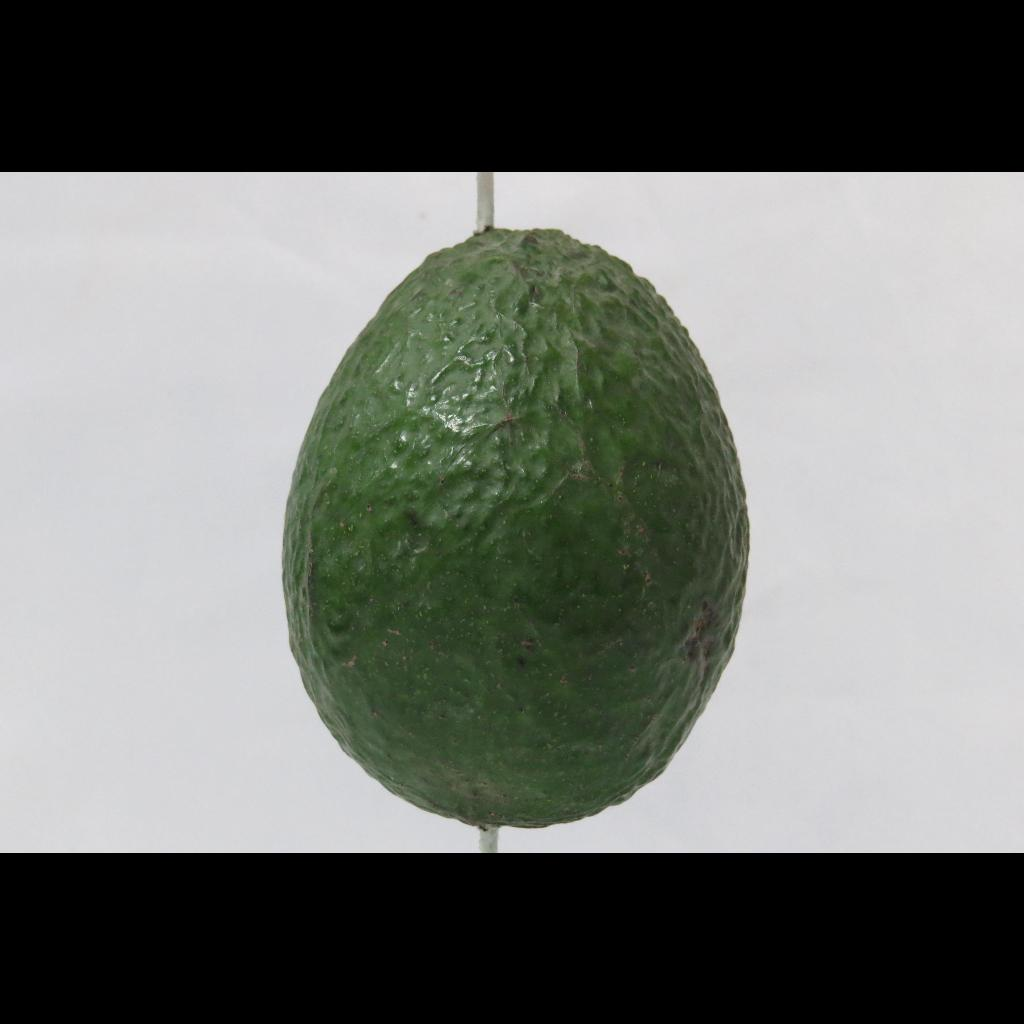fruto_sano: (251, 198, 809, 841)
